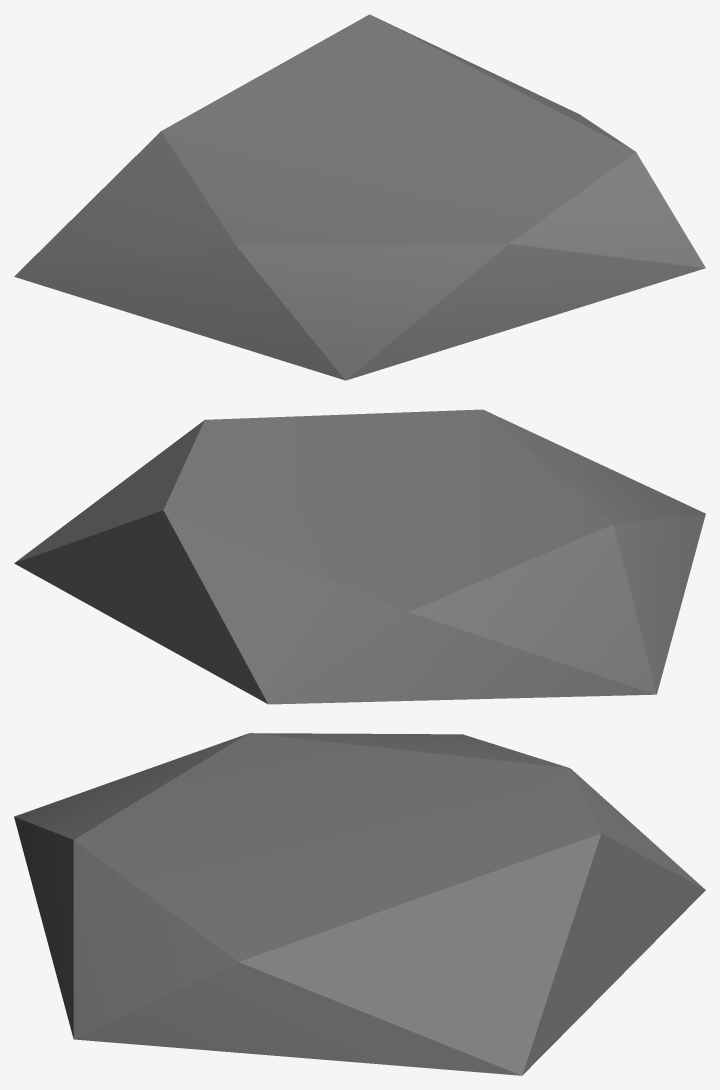
File: stone_2.glb
3 renders of one model, top to bottom at view 1: azimuth 30°, elevation 25°; view 2: azimuth 150°, elevation 25°; view 3: azimuth 270°, elevation 25°, orthographic. The views are drawn at different scales.
Parts seen in each view (by area): view 1: stone_2; view 2: stone_2; view 3: stone_2.
Part boxes in pixels (x1,y1,x2,y2): stone_2: (14,14,705,380); stone_2: (14,409,705,704); stone_2: (14,733,705,1075).
Bounding box in the file's own units: 0.6778 × 0.13 × 0.5805.
Materials: 1 (1 with a texture image).
